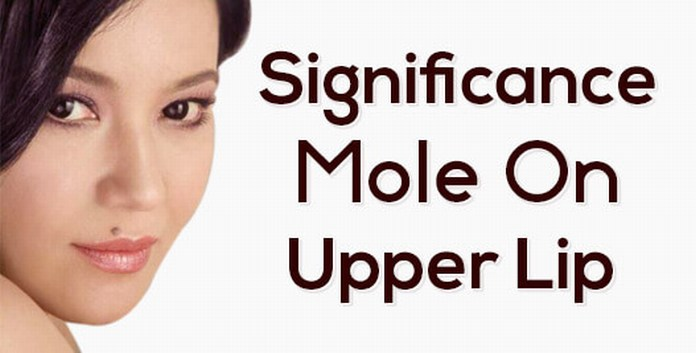mole: (104, 220, 125, 237)
